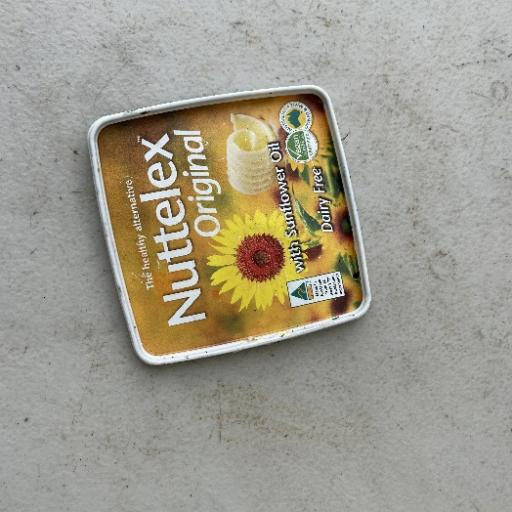Plastic: (85, 83, 373, 367)
